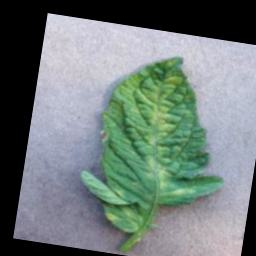Leaf_Mold: (120, 52, 189, 195), (169, 181, 197, 199), (104, 211, 120, 223)
